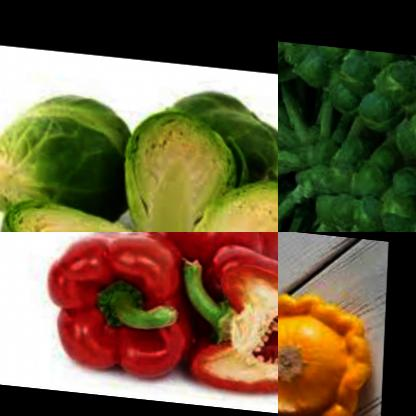bell pepper: (46, 232, 200, 378), (180, 232, 278, 396)
brus capusta: (294, 41, 416, 201), (0, 80, 134, 213), (106, 90, 224, 232), (171, 65, 278, 179), (278, 147, 416, 232), (3, 181, 160, 232), (198, 164, 278, 232)
squash-patisson: (278, 280, 370, 416)
